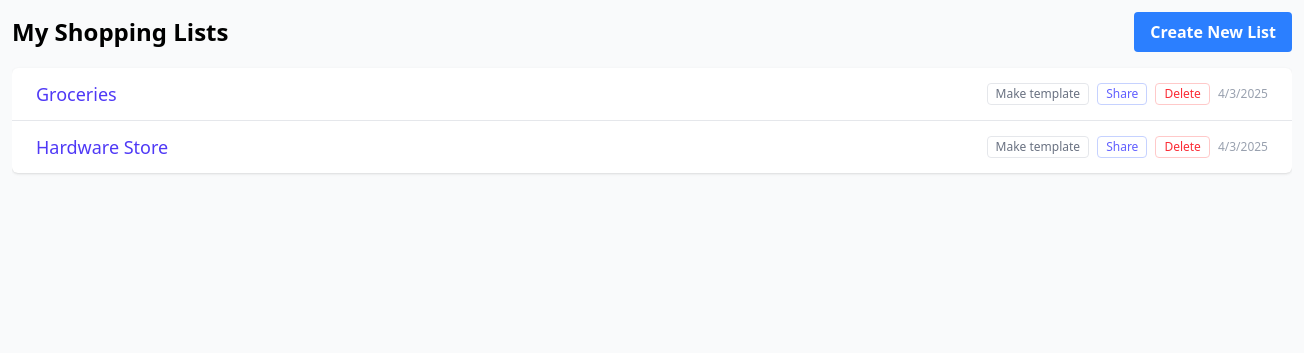
Test: ShoppingListsPage Component › should disable the submit button when the name field is empty
Check: the link "Groceries" is shown, box [36,80,117,108]
Click the button "Create New List": (1213, 32) [1134,12,1292,52]
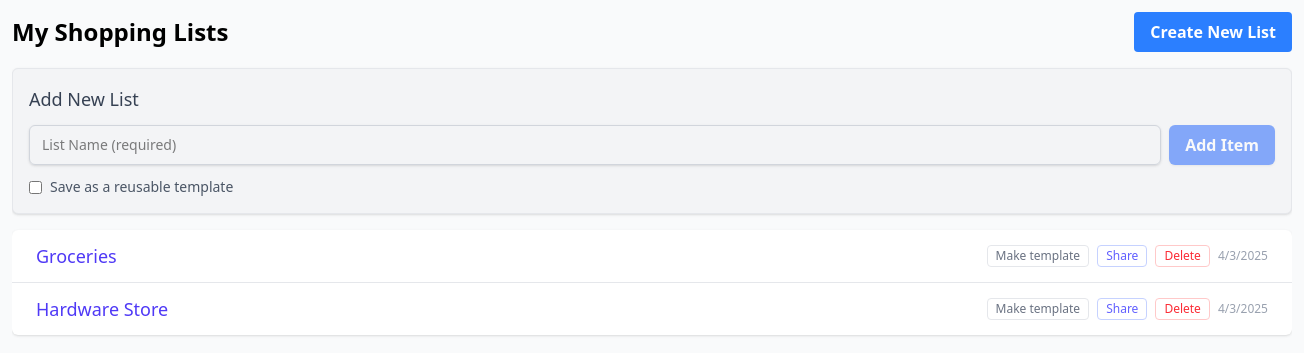
Check: the field named "New list name" is empty
Check: the button "Add Item" is disabled, box [1169,125,1275,165]
// Type something into the input
In the field named "New list name": (595, 145) [29,125,1161,165], type "New List"
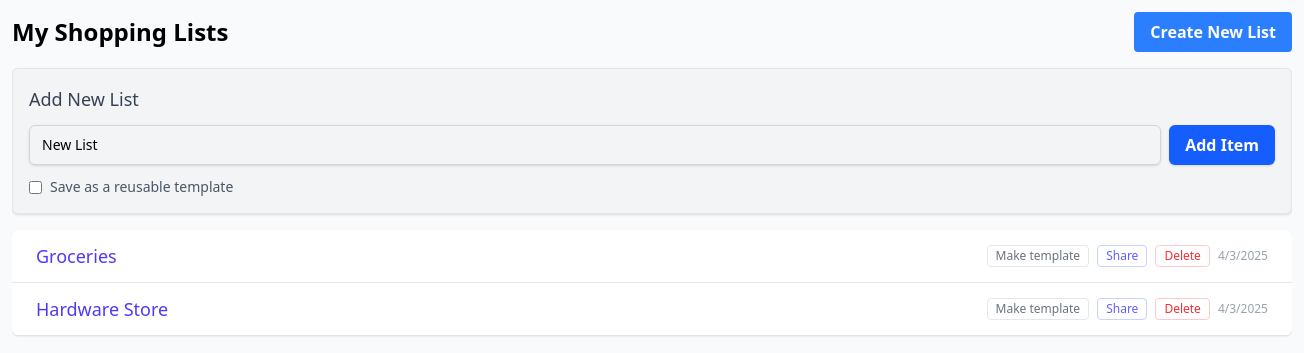
Check: the button "Add Item" is enabled, box [1169,125,1275,165]
// Clear the input
Clear the field named "New list name": (595, 145) [29,125,1161,165]
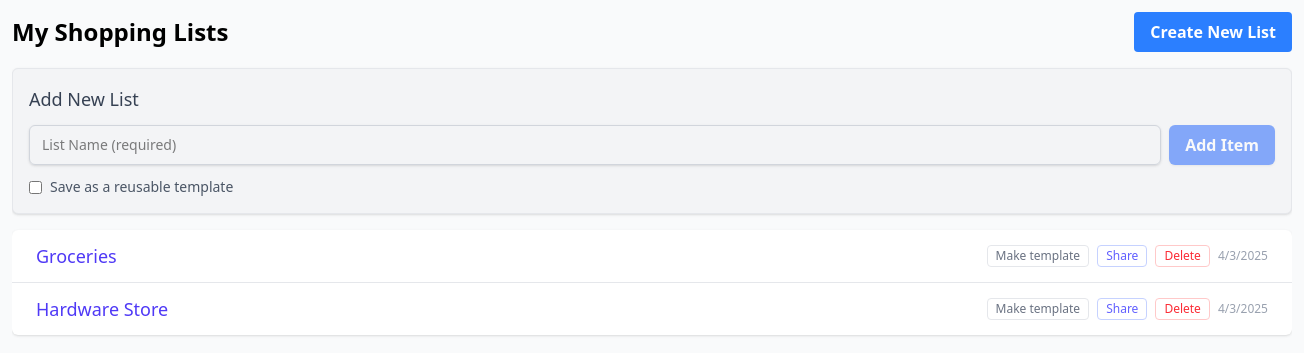
Check: the button "Add Item" is disabled, box [1169,125,1275,165]
